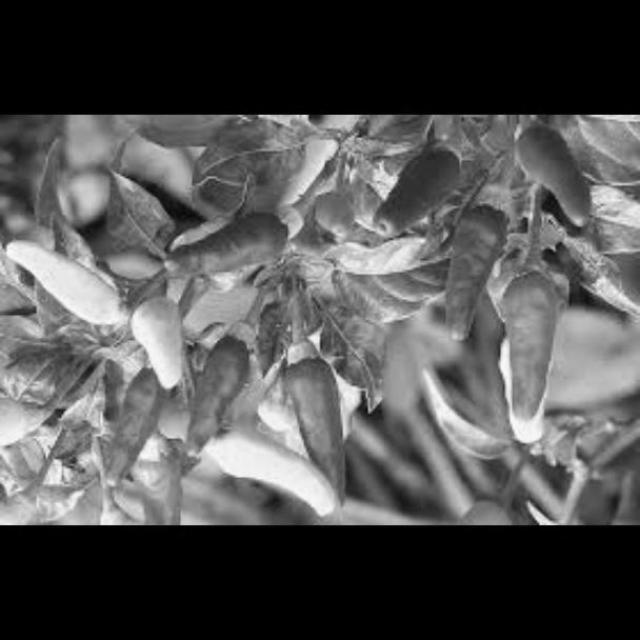ot cay: (201, 420, 346, 525), (1, 229, 132, 333), (276, 352, 356, 513), (152, 210, 301, 288), (511, 129, 603, 237), (444, 205, 516, 342), (508, 263, 568, 421), (372, 149, 470, 245), (183, 334, 255, 456), (102, 371, 170, 490), (136, 291, 195, 400), (124, 433, 190, 527), (1, 440, 64, 526), (1, 388, 66, 450), (585, 431, 640, 485), (84, 475, 140, 527), (314, 189, 362, 249)
